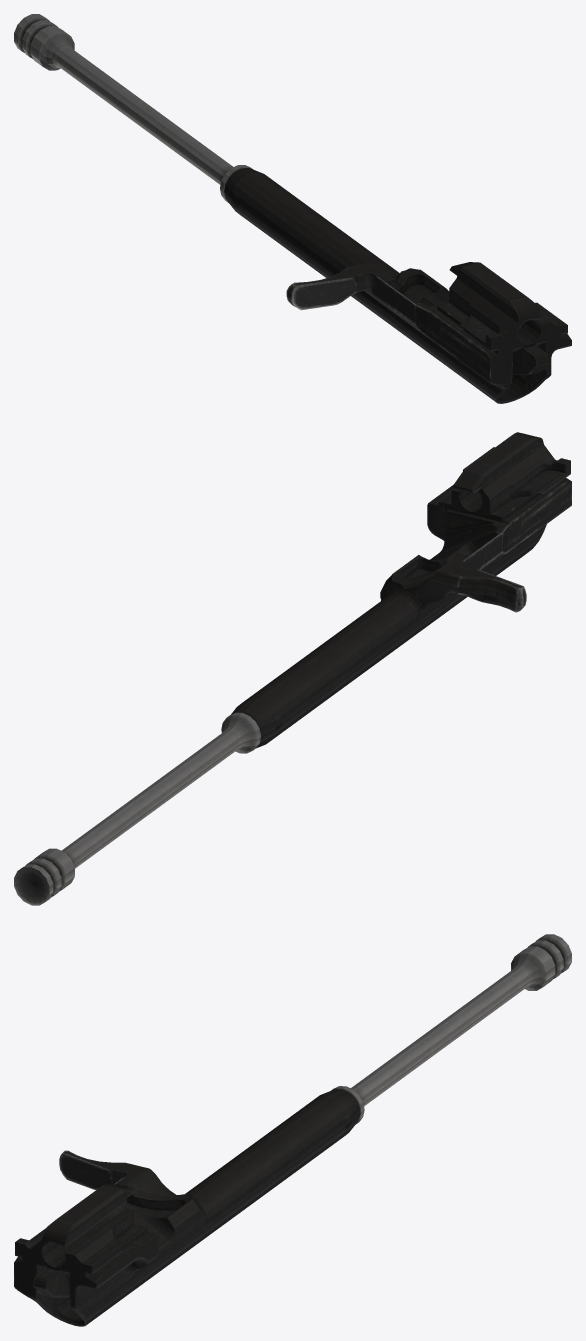
3 renders of one model, top to bottom at view 1: azimuth 30°, elevation 25°; view 2: azimuth 150°, elevation 25°; view 3: azimuth 330°, elevation 25°, orthographic.
Visible parts, largest first — view 1: TW_6499849fc93611967b034949_PZ_Import; view 2: TW_6499849fc93611967b034949_PZ_Import; view 3: TW_6499849fc93611967b034949_PZ_Import.
Part boxes in pixels (x1=…): TW_6499849fc93611967b034949_PZ_Import: x1=14, y1=14, x2=571, y2=403; TW_6499849fc93611967b034949_PZ_Import: x1=14, y1=432, x2=571, y2=905; TW_6499849fc93611967b034949_PZ_Import: x1=14, y1=934, x2=571, y2=1326.
Bounding box in the file's own units: 0.0359 × 0.1998 × 0.024.
1 material, 1 textured.
